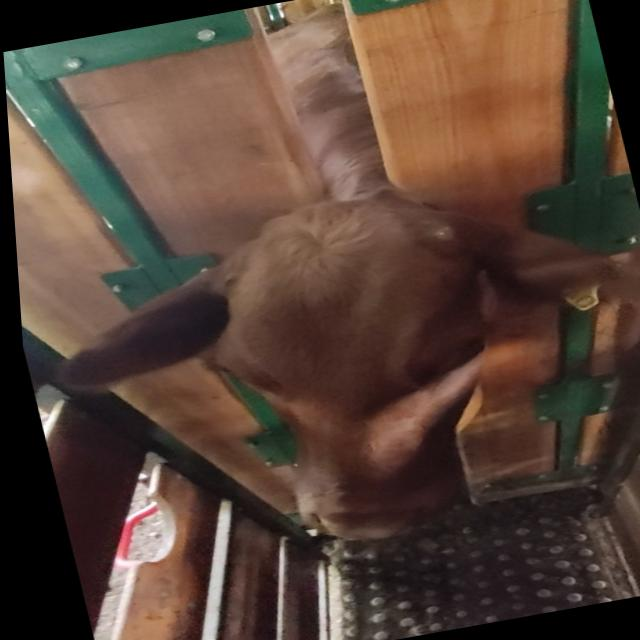cowFace: (173, 180, 533, 558)
